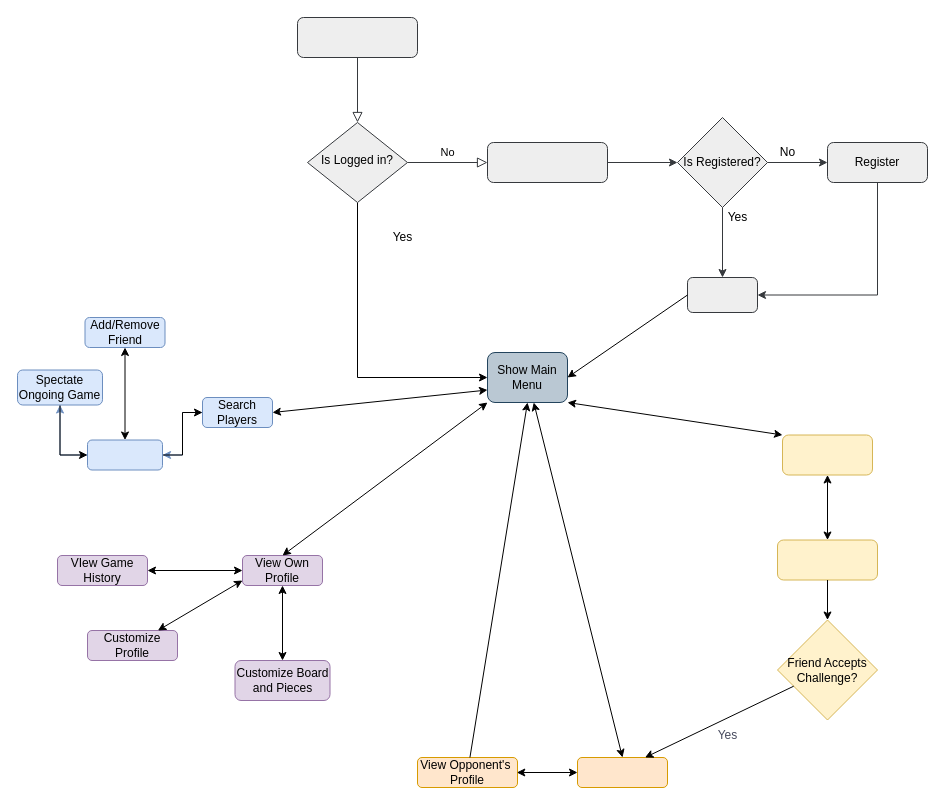
This 945x805 diagram has some shape labels left out. Each missing label, with the centre of its shape:
Access App: the point at 357,37
Challenge Friend to a Game: the point at 827,559
Log in: the point at 722,294
Play a Game: the point at 622,772
Show Login Form: the point at 547,162
View Friends List: the point at 827,454
View Player's Profile: the point at 124,454
